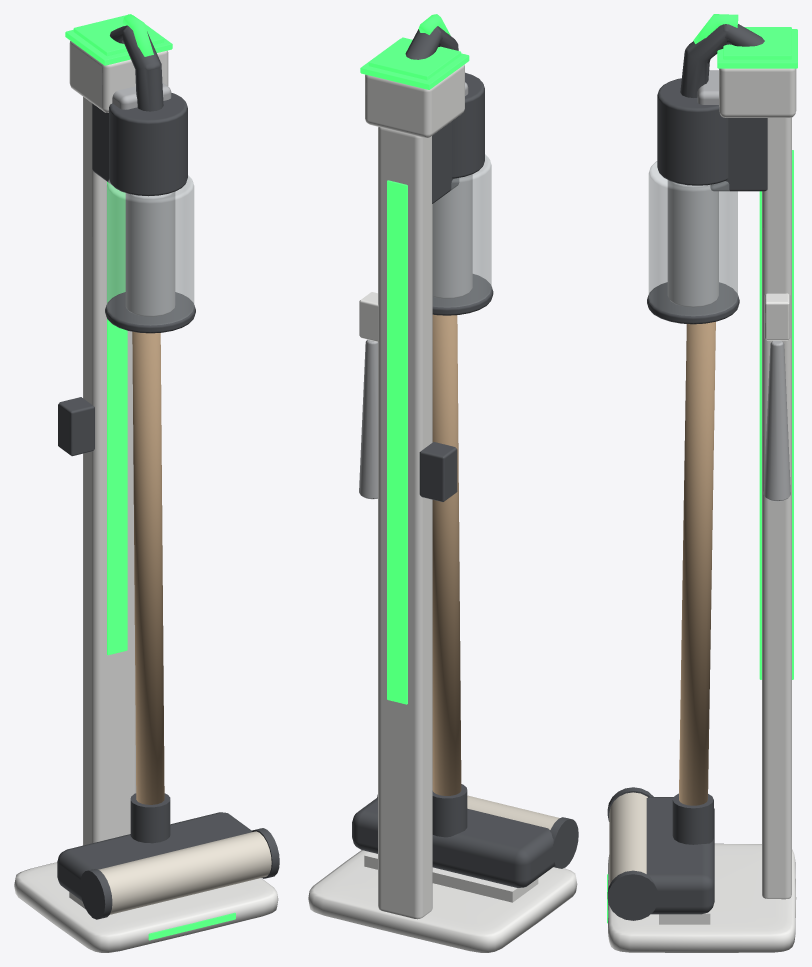
Rendered from stick_vacuum.glb.
The picture shows the model from 3 angles, left to right: view 1: azimuth 30°, elevation 25°; view 2: azimuth 150°, elevation 25°; view 3: azimuth 270°, elevation 25°; orthographic projection. The views are drawn at different scales.
Visible parts, largest first — view 1: stick_vacuum_stand, stick_vacuum_body, stick_vacuum_wand, stick_vacuum_stand_led, stick_vacuum_base, stick_vacuum_roller, stick_vacuum_floor_head, stick_vacuum_tools, stick_vacuum_led_bar; view 2: stick_vacuum_stand, stick_vacuum_stand_led, stick_vacuum_base, stick_vacuum_wand, stick_vacuum_body, stick_vacuum_floor_head, stick_vacuum_tools, stick_vacuum_roller; view 3: stick_vacuum_body, stick_vacuum_stand, stick_vacuum_wand, stick_vacuum_base, stick_vacuum_floor_head, stick_vacuum_roller, stick_vacuum_stand_led, stick_vacuum_tools, stick_vacuum_led_bar.
Part boxes in pixels (x1=…): stick_vacuum_stand: x1=69, y1=41, x2=171, y2=845; stick_vacuum_body: x1=92, y1=25, x2=195, y2=333; stick_vacuum_wand: x1=130, y1=331, x2=170, y2=843; stick_vacuum_stand_led: x1=65, y1=14, x2=235, y2=940; stick_vacuum_base: x1=14, y1=862, x2=278, y2=952; stick_vacuum_roller: x1=80, y1=828, x2=279, y2=919; stick_vacuum_floor_head: x1=57, y1=812, x2=251, y2=900; stick_vacuum_tools: x1=58, y1=397, x2=94, y2=456; stick_vacuum_led_bar: x1=122, y1=14, x2=153, y2=56; stick_vacuum_stand: x1=365, y1=64, x2=468, y2=919; stick_vacuum_stand_led: x1=360, y1=37, x2=469, y2=704; stick_vacuum_base: x1=308, y1=850, x2=577, y2=952; stick_vacuum_wand: x1=432, y1=314, x2=467, y2=837; stick_vacuum_body: x1=405, y1=26, x2=493, y2=315; stick_vacuum_floor_head: x1=352, y1=797, x2=561, y2=887; stick_vacuum_tools: x1=359, y1=292, x2=457, y2=501; stick_vacuum_roller: x1=377, y1=794, x2=578, y2=868; stick_vacuum_body: x1=647, y1=24, x2=767, y2=324; stick_vacuum_stand: x1=697, y1=68, x2=796, y2=899; stick_vacuum_wand: x1=672, y1=322, x2=715, y2=844; stick_vacuum_base: x1=608, y1=843, x2=796, y2=952; stick_vacuum_floor_head: x1=646, y1=797, x2=714, y2=914; stick_vacuum_roller: x1=607, y1=787, x2=658, y2=920; stick_vacuum_stand_led: x1=607, y1=27, x2=797, y2=923; stick_vacuum_tools: x1=763, y1=293, x2=790, y2=501; stick_vacuum_led_bar: x1=693, y1=14, x2=738, y2=43.
Bounding box in the file's own units: 0.26 × 1.15 × 0.2225.
